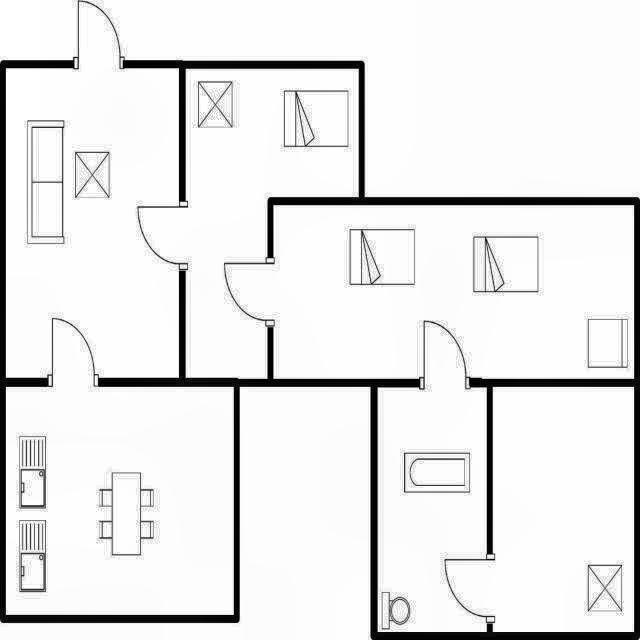room: (273, 205, 634, 379), (5, 68, 179, 378), (186, 69, 359, 379), (6, 387, 234, 615), (493, 387, 634, 632), (378, 387, 487, 632)
